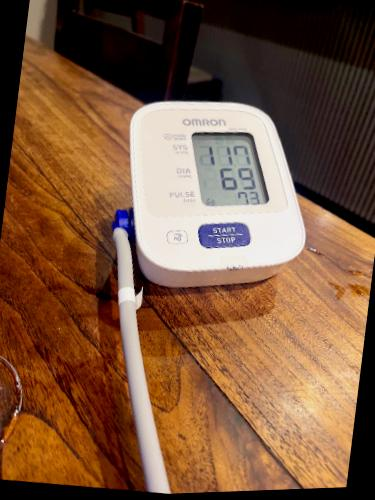bpm: (189, 120, 271, 214)
